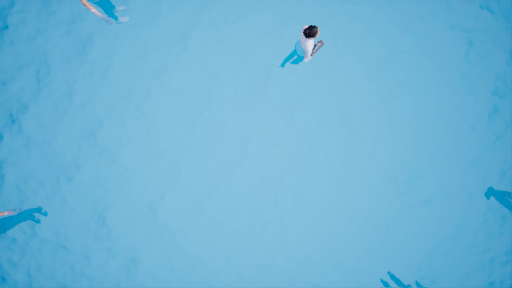person: (276, 21, 328, 76)
